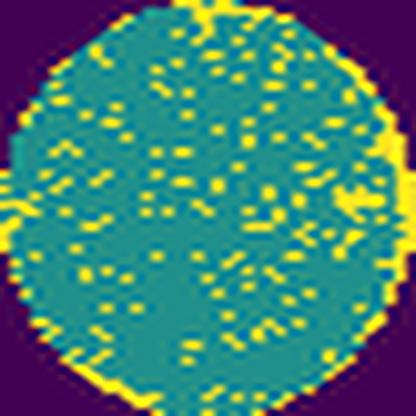Edge-Loc: (365, 100, 416, 308)
